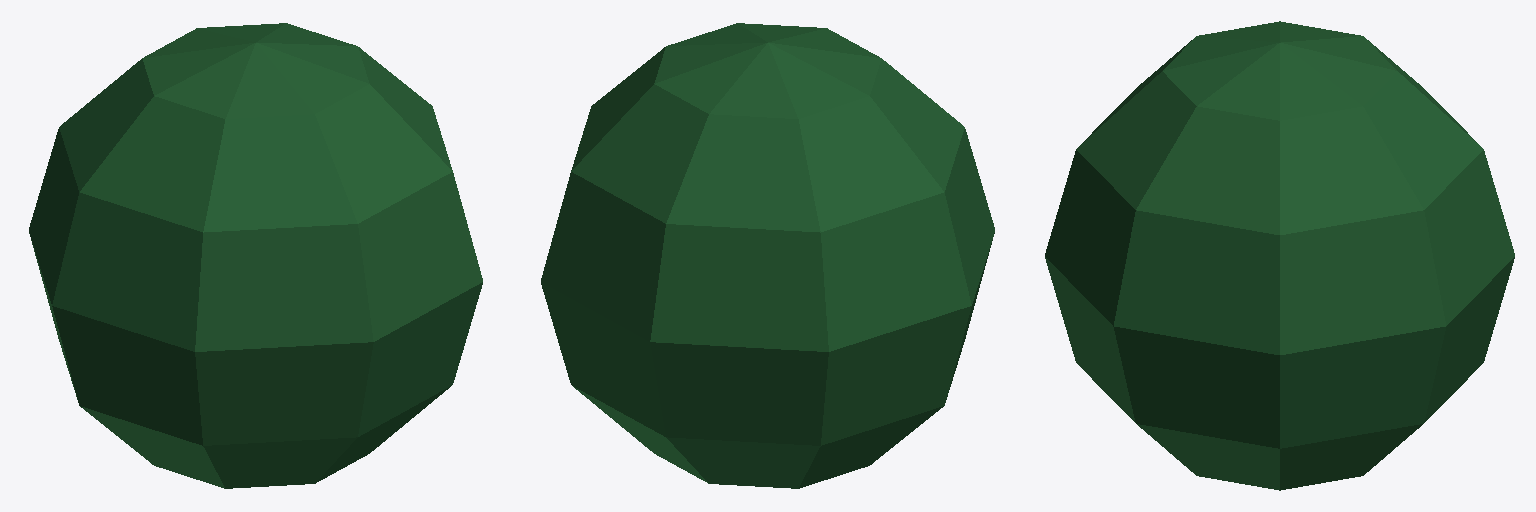
Rendered from Kohl_A.obj.
The picture shows the model from 3 angles: view 1: azimuth 30°, elevation 25°; view 2: azimuth 150°, elevation 25°; view 3: azimuth 270°, elevation 25°; orthographic projection.
Visible parts, largest first — view 1: Kohl_A; view 2: Kohl_A; view 3: Kohl_A.
Boxes of the visible parts, box(x1,y1,x2,y2) form: Kohl_A: box(29, 23, 482, 488); Kohl_A: box(541, 23, 994, 488); Kohl_A: box(1045, 21, 1514, 490).
Size of the model in its own units: 4.09 by 4.09 by 4.09.